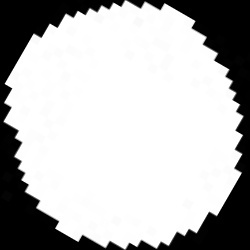spot: (4, 3, 243, 246)
